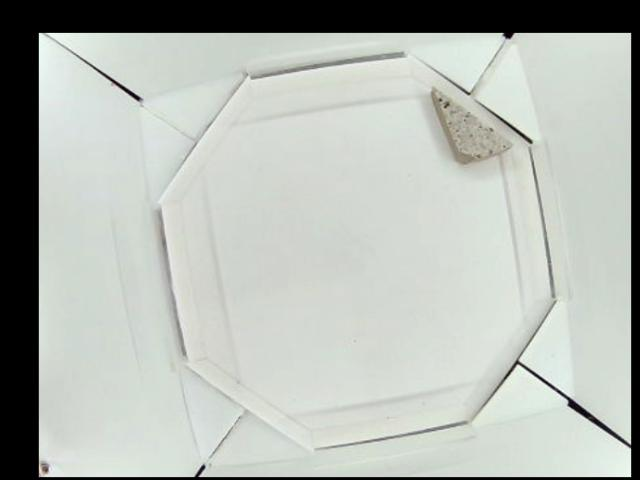China: (433, 87, 511, 161)
